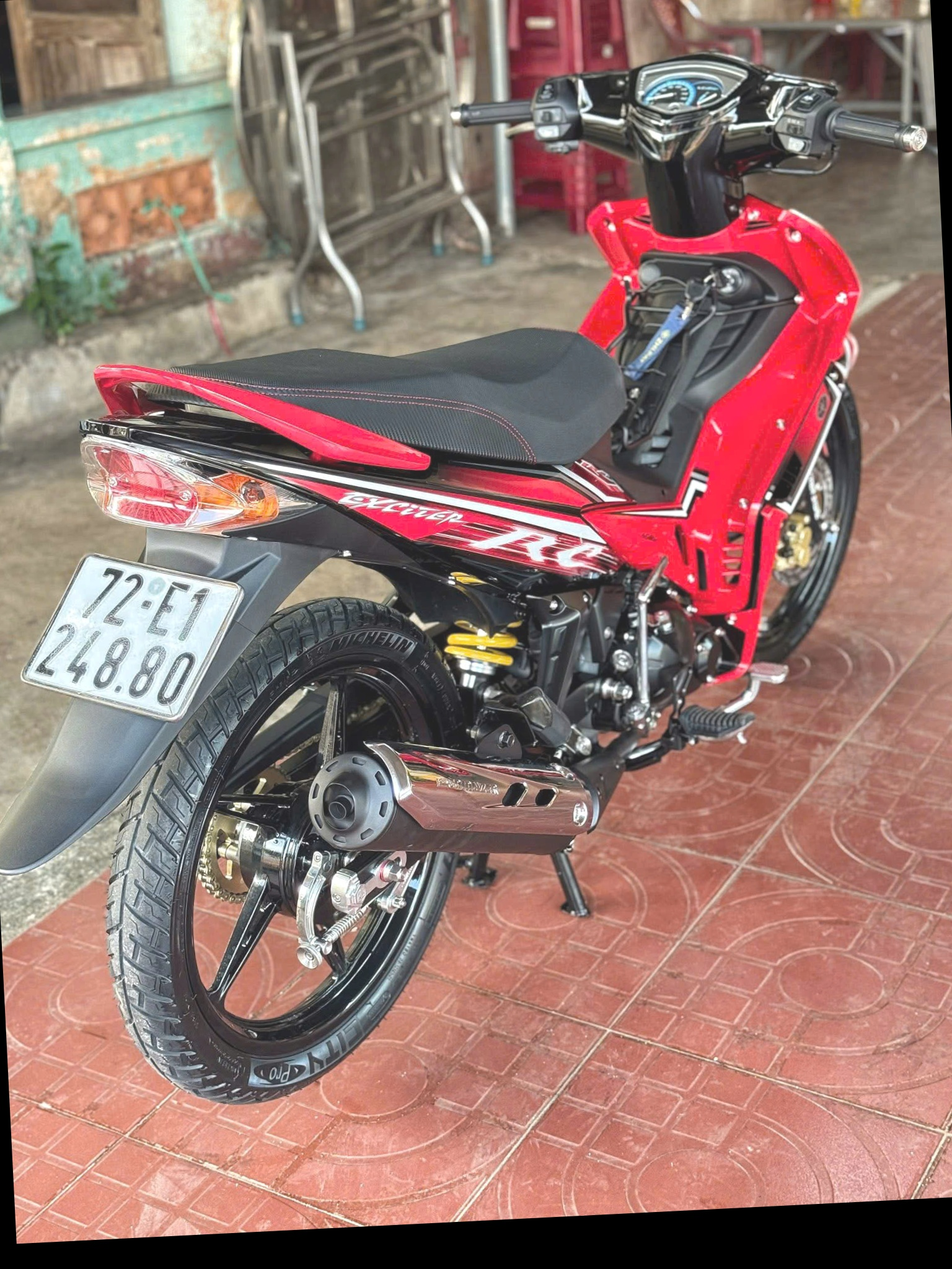Bien-so: (0, 541, 223, 721)
